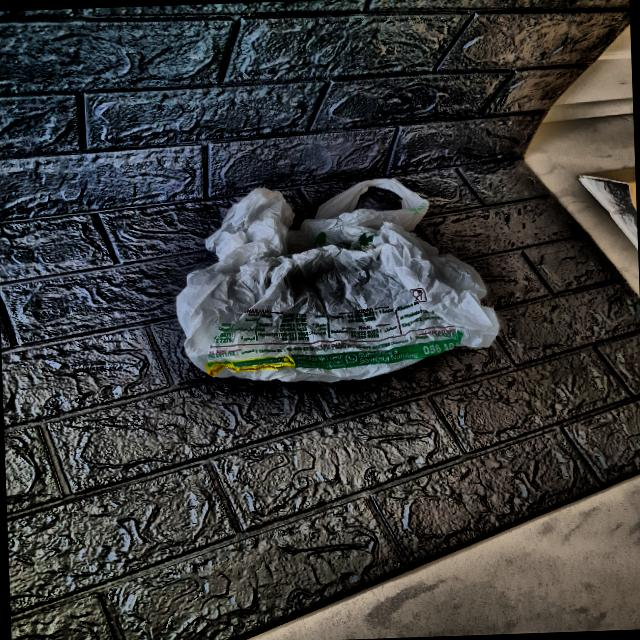plastic bag: (141, 157, 520, 392)
